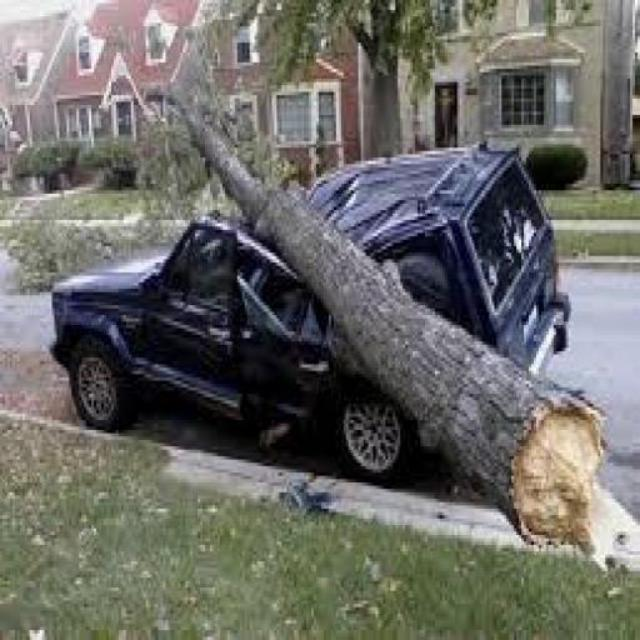crash: (155, 155, 387, 438)
